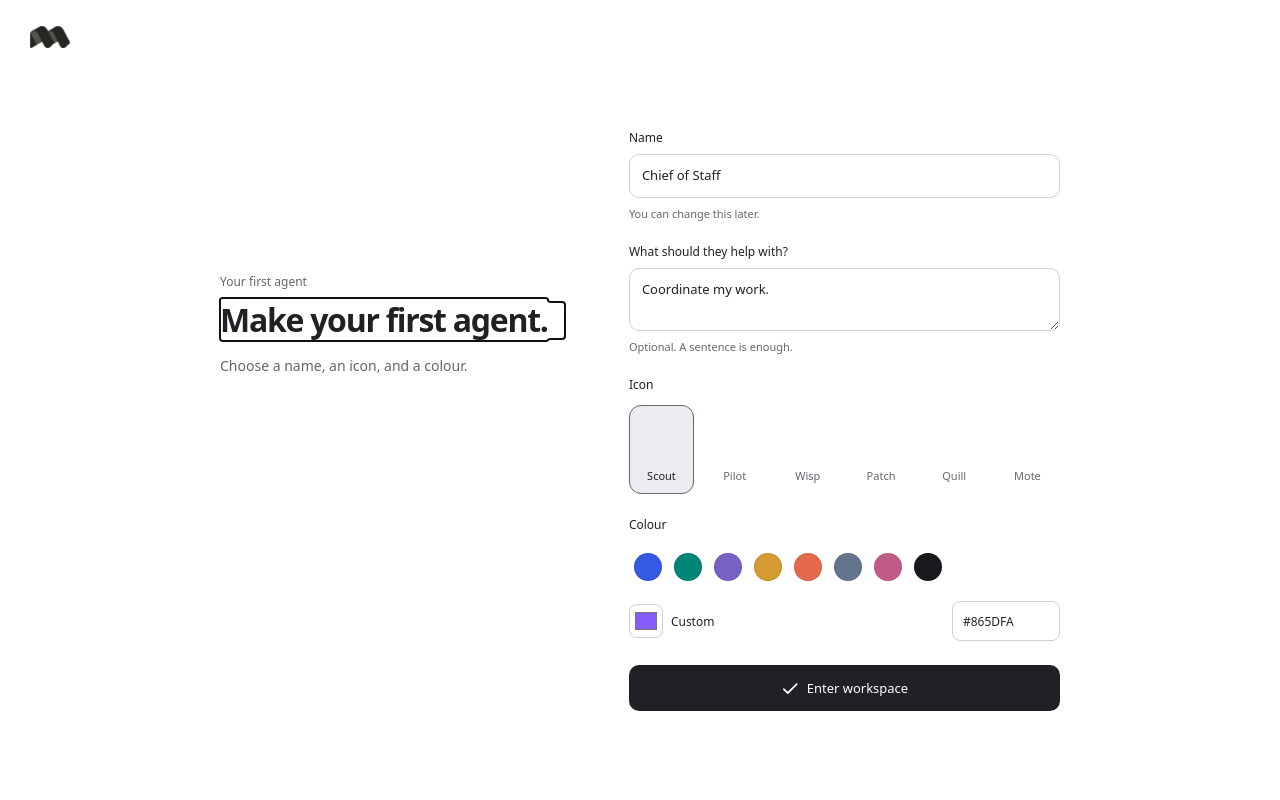
Test: first agent onboarding › requires a name and surfaces save errors without losing the draft
The width and height of the screenshot is (1280, 800).
Step 1. Clear the field showing "Chief of Staff" → (844, 176), box top-left (629, 154), bottom-right (1060, 198)
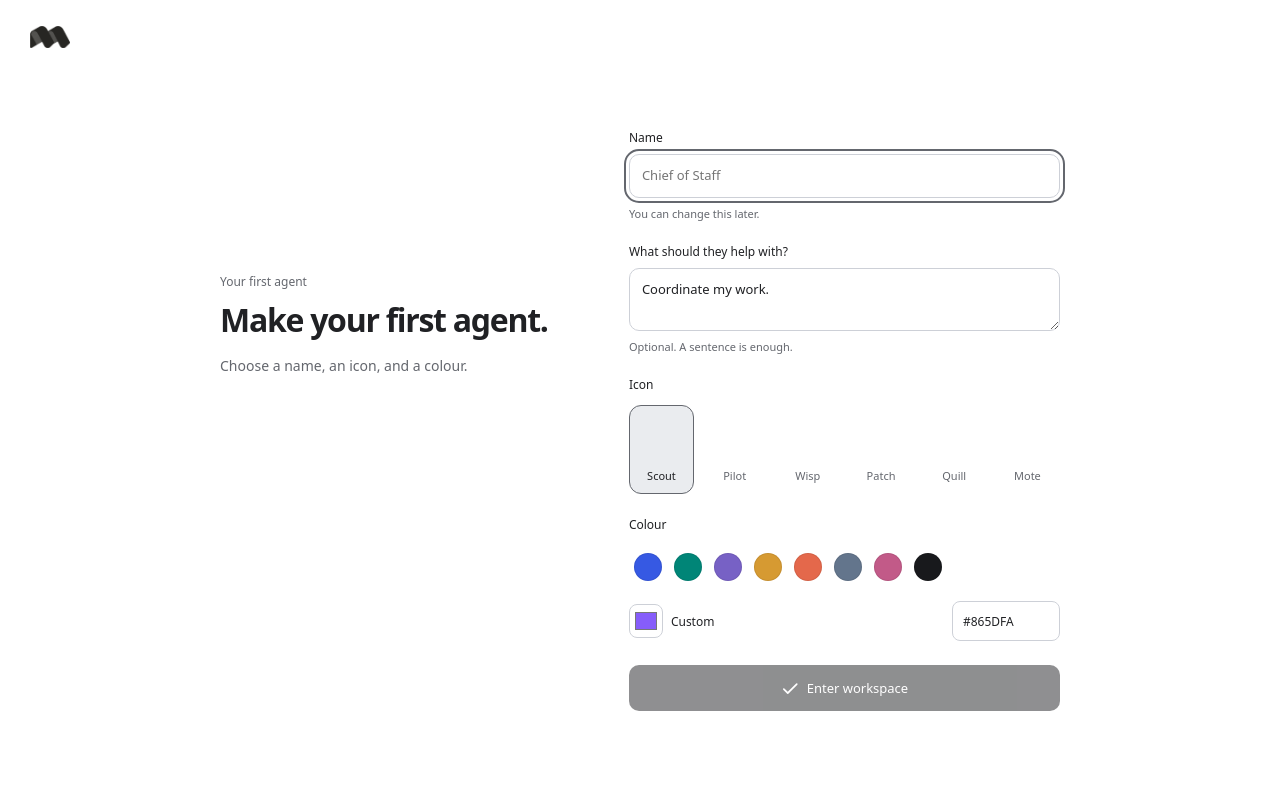
Result: the button "Enter workspace" is disabled at top-left (629, 665), bottom-right (1060, 711)
Step 2. Type "Mira" into the field showing "Chief of Staff" → (844, 176), box top-left (629, 154), bottom-right (1060, 198)
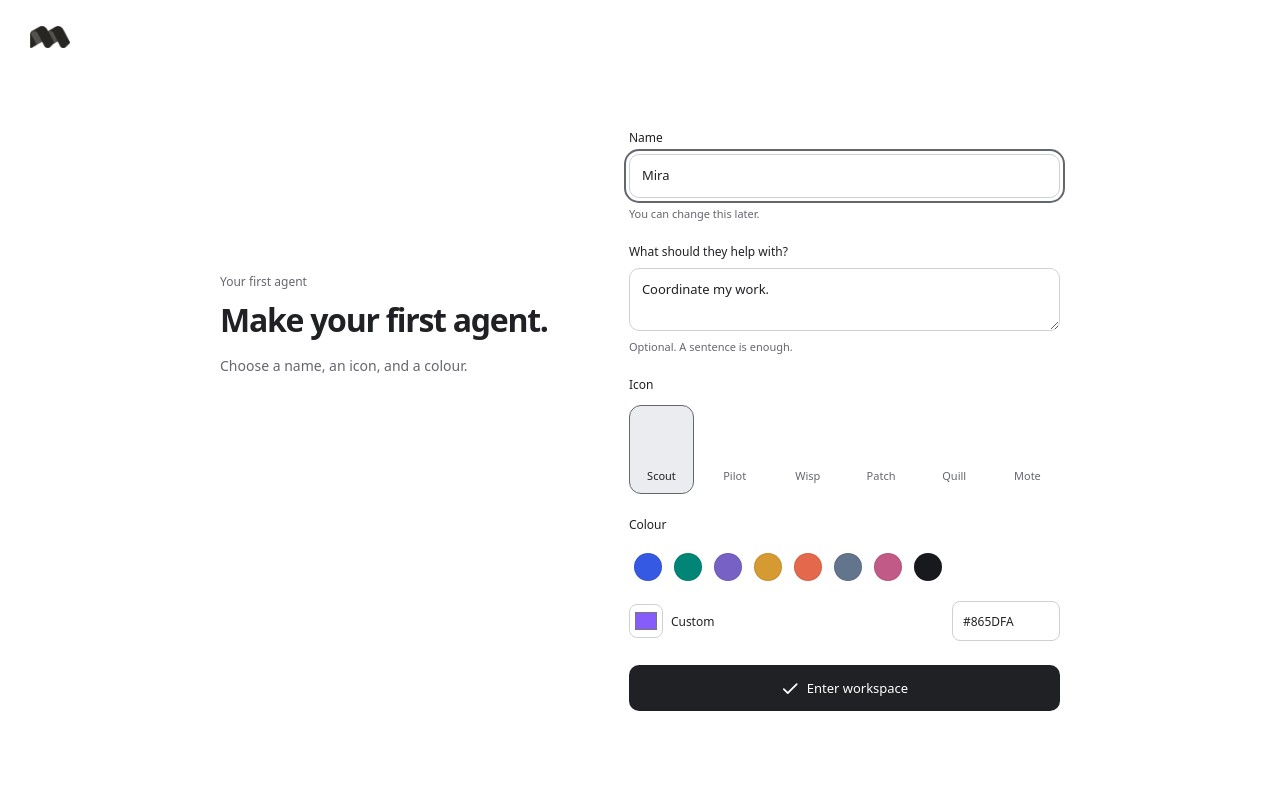
Step 3. Click the button "Enter workspace" → click(844, 688), box top-left (629, 665), bottom-right (1060, 711)
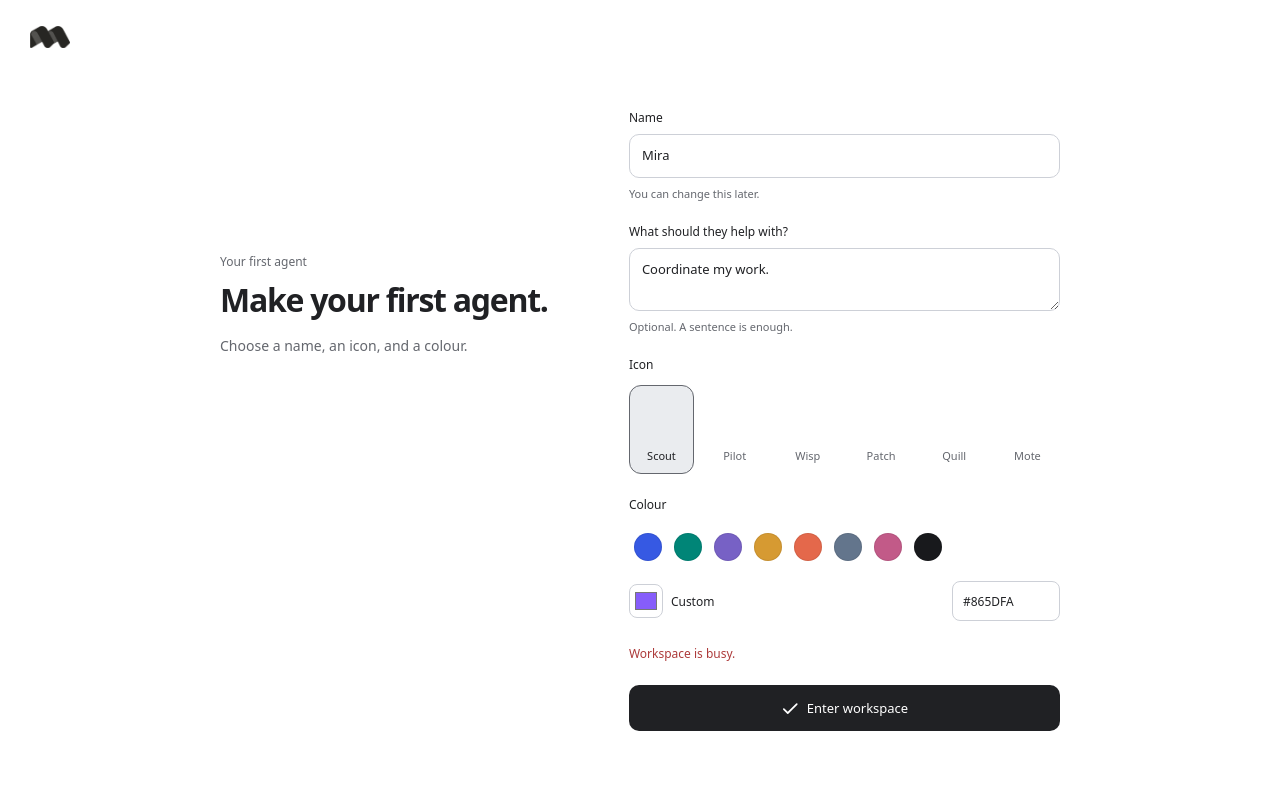
Result: the button "Enter workspace" is enabled at top-left (629, 685), bottom-right (1060, 731)
Result: the message reads "Workspace is busy." at top-left (629, 645), bottom-right (735, 662)
